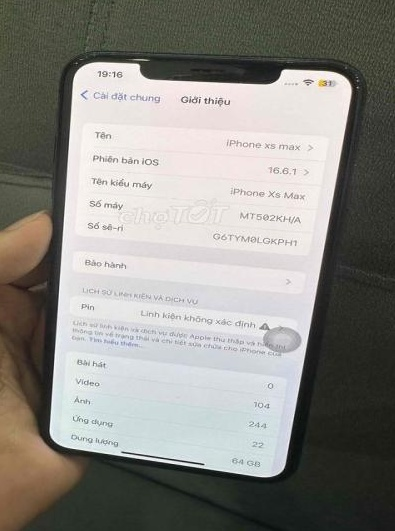scratch: (52, 43, 107, 79)
